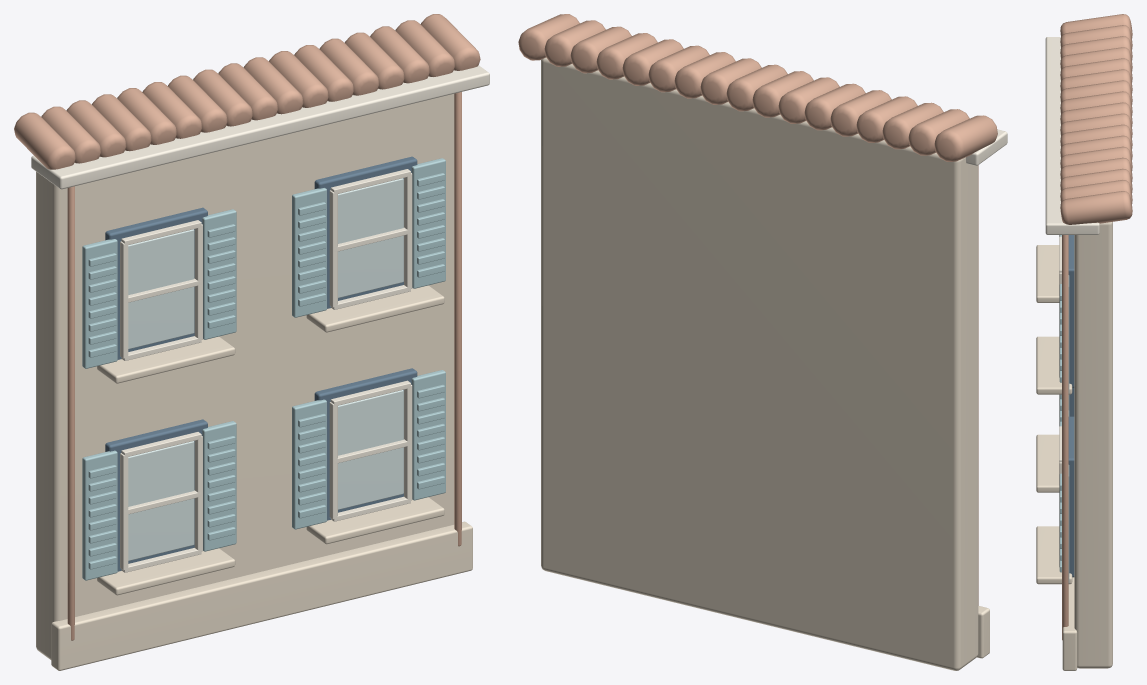
The model's file is Facade_3.fbx.
3 views of the same model, side by side, from view 1: azimuth 30°, elevation 25°; view 2: azimuth 150°, elevation 25°; view 3: azimuth 270°, elevation 25° (orthographic). The views are drawn at different scales.
Parts seen in each view (by area): view 1: Plaster, StoneFoot, Cornice, Glass, Glass.001, Glass.002, Glass.003, RainPipe, RainPipe.001, Shutter.002, Shutter, Shutter.006 (+38 smaller); view 2: Plaster, RoofTile, RoofTile.001, RoofTile.004, RoofTile.006, RoofTile.008, RoofTile.009, RoofTile.011, RoofTile.012, RoofTile.014, RoofTile.015, RoofTile.003 (+6 smaller); view 3: Plaster, Cornice, RainPipe.001, RoofTile.016, Sill.003, Sill.002, Sill, Sill.001, StoneFoot, WindowRecess.002, WindowRecess.003, RoofTile.001 (+17 smaller).
Part boxes in pixels (x1,y1,x2,y2): Plaster: [36, 94, 454, 659]; StoneFoot: [51, 521, 472, 670]; Cornice: [31, 65, 489, 189]; Glass: [128, 441, 194, 560]; Glass.001: [128, 229, 194, 349]; Glass.002: [338, 390, 403, 509]; Glass.003: [338, 178, 403, 297]; RainPipe: [67, 186, 74, 640]; RainPipe.001: [454, 92, 461, 546]; Shutter.002: [82, 239, 117, 368]; Shutter: [82, 450, 117, 580]; Shutter.006: [292, 188, 326, 317]; Plaster: [541, 57, 978, 670]; RoofTile: [934, 115, 997, 161]; RoofTile.001: [908, 109, 969, 155]; RoofTile.004: [830, 90, 891, 136]; RoofTile.006: [778, 77, 839, 123]; RoofTile.008: [726, 64, 787, 111]; RoofTile.009: [700, 58, 761, 104]; RoofTile.011: [648, 45, 709, 92]; RoofTile.012: [622, 39, 683, 85]; RoofTile.014: [570, 26, 631, 73]; RoofTile.015: [544, 20, 605, 66]; RoofTile.003: [856, 96, 917, 142]; Plaster: [1074, 222, 1112, 668]; Cornice: [1045, 37, 1099, 234]; RainPipe.001: [1062, 235, 1068, 640]; RoofTile.016: [1060, 191, 1132, 224]; Sill.003: [1036, 336, 1072, 394]; Sill.002: [1036, 526, 1072, 584]; Sill: [1036, 434, 1059, 492]; Sill.001: [1036, 245, 1059, 302]; StoneFoot: [1062, 577, 1077, 670]; WindowRecess.002: [1068, 416, 1074, 577]; WindowRecess.003: [1068, 235, 1074, 387]; RoofTile.001: [1060, 25, 1132, 48].
Bounding box in the file's own units: 488 × 574 × 105.
